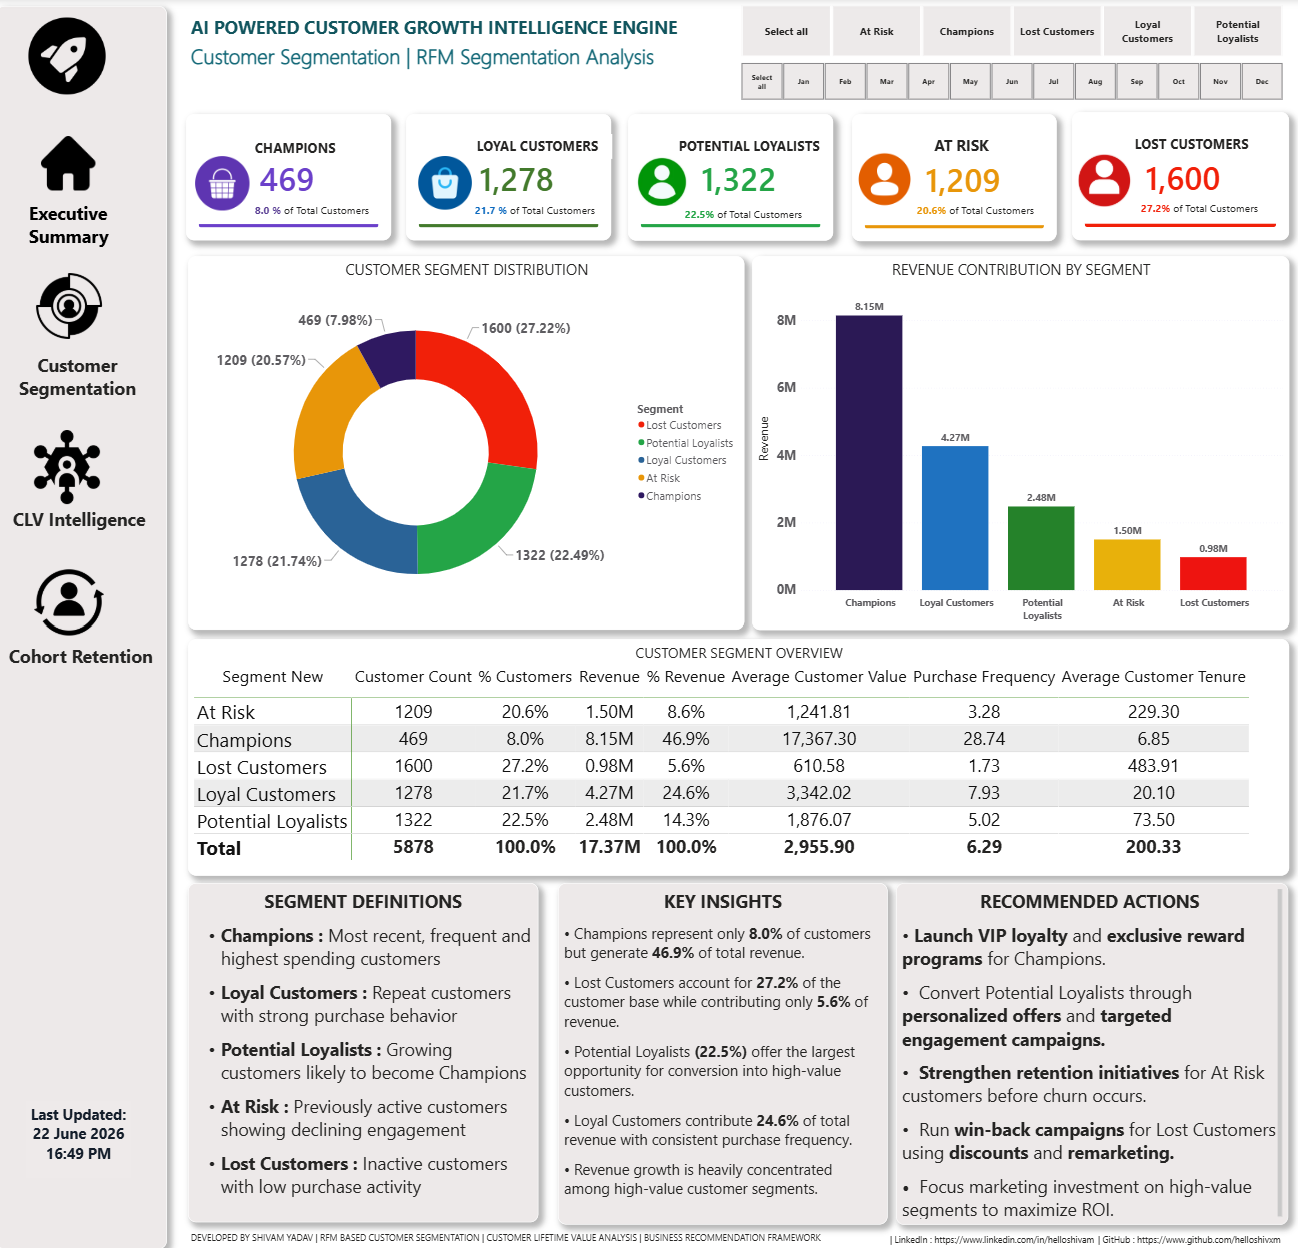

This screenshot's page, from the dashboard's own definition file:
{"tool":"powerbi","page":{"name":"Customer Segmentation","canvas":[2380,2260],"ordinal":1},"visuals":[{"type":"textbox","box":[15.2,15.2,309.1,2245.5],"z":1000},{"type":"image","box":[88,249.9,116.2,98.6],"z":2000},{"type":"image","box":[73.9,496.3,147.8,123.2],"z":3000},{"type":"image","box":[73.9,781.4,140.8,133.8],"z":4000},{"type":"image","box":[81,1027.8,133.8,130.2],"z":5000},{"type":"textbox","box":[70,363.3,186.7,103.3],"z":7000},{"type":"textbox","box":[33.3,635.4,258.3,114.6],"z":8000},{"type":"textbox","box":[40,913.3,253.3,60],"z":9000},{"type":"textbox","box":[33.3,1160,273.3,63.3],"z":10000},{"type":"textbox","box":[68.8,1993.8,189.6,139.6],"z":12000},{"type":"textbox","box":[360,26,898,136],"z":13000},{"type":"image","box":[356,484,186,148],"z":14000},{"type":"cardVisual","fields":{"Data":["cohort_analysis.Champions Count"]},"box":[356.8,210.5,371.1,228.4],"z":15000},{"type":"cardVisual","fields":{"Data":["cohort_analysis.Loyal Customers Count"]},"box":[756.4,210.5,371.1,228.4],"z":16000},{"type":"cardVisual","fields":{"Data":["cohort_analysis.Potential Loyalists Count"]},"box":[1156.1,210.6,371.2,228.8],"z":17000},{"type":"cardVisual","fields":{"Data":["cohort_analysis.At Risk Count"]},"box":[1562.5,210,370,230],"z":18000},{"type":"cardVisual","fields":{"Data":["cohort_analysis.Lost Customers Count"]},"box":[1958.8,206.9,392.5,231.9],"z":19000},{"type":"image","box":[368,284,109.3,98.7],"z":20000},{"type":"image","box":[772.3,284.6,104.6,96.9],"z":21000},{"type":"image","box":[1167.2,285.1,97,92.5],"z":22000},{"type":"image","box":[1570.8,280,103.1,98.5],"z":23000},{"type":"image","box":[1967.7,276.9,101.5,103.1],"z":24000},{"type":"textbox","box":[477.3,250,212.1,43.9],"z":25000},{"type":"textbox","box":[877.5,247.5,250,45],"z":26000},{"type":"textbox","box":[1242.5,245,275,45],"z":27000},{"type":"textbox","box":[1674.3,241.4,171.4,48.6],"z":28000},{"type":"textbox","box":[2069.7,243.9,268.2,48.5],"z":29000},{"type":"textbox","box":[476.9,365.4,226.9,38.5],"z":30000},{"type":"textbox","box":[876,366.7,234.7,36],"z":31000},{"type":"textbox","box":[1253.4,371.2,226,49.3],"z":32000},{"type":"textbox","box":[1674,365.8,223.3,42.5],"z":33000},{"type":"textbox","box":[2080.8,363,223.3,45.2],"z":34000},{"type":"donutChart","title":"CUSTOMER SEGMENT DISTRIBUTION","fields":{"Category":["customer_segments.Segment New"],"Y":["cohort_analysis.Customer Count"]},"box":[360.4,467.4,1006.2,674.4],"z":35000},{"type":"clusteredColumnChart","title":"REVENUE CONTRIBUTION BY SEGMENT","fields":{"Category":["customer_segments.Segment New"],"Y":["cohort_analysis.Revenue"]},"box":[1380,466.7,971.7,675],"z":36000},{"type":"pivotTable","title":"CUSTOMER SEGMENT OVERVIEW","fields":{"Rows":["customer_segments.Segment New"],"Values":["cohort_analysis.Customer Count","cohort_analysis.% Customers","cohort_analysis.Revenue","cohort_analysis.% Revenue","cohort_analysis.Average Customer Value","cohort_analysis.Purchase Frequency","cohort_analysis.Average Customer Tenure"]},"box":[360.4,1156,1990.9,428.2],"z":37000},{"type":"textbox","box":[360,1600,633.3,613.3],"z":38000},{"type":"textbox","box":[1031.2,1598.5,595.9,617.3],"z":39000},{"type":"textbox","box":[1641.6,1597.4,709.1,618.2],"z":40000},{"type":"textbox","box":[360.2,2224.7,1163.4,35.5],"z":41000},{"type":"actionButton","title":"| LinkedIn : https://www.linkedin.com/in/helloshivam","box":[1630.8,2232.5,371.4,25.5],"z":42000},{"type":"actionButton","title":"| GitHub : https://www.github.com/helloshivxm","box":[2007.3,2232.5,340.8,25.5],"z":43000},{"type":"image","box":[50.6,25.3,184.4,159.1],"z":44000},{"type":"slicer","fields":{"Values":["customer_segments.Segment New"]},"box":[1329.3,0,1039.7,119],"z":45000},{"type":"slicer","fields":{"Values":["customer_clv_ml_v2.Month Short"]},"box":[1329.3,103.4,1039.7,91.4],"z":46000}]}

Visuals, with their boxes in screenshot pixels (x1, y1, x2, y2), scaled from the page's 2380x2260 canvas onto the 1298x1248 screenshot:
textbox: 8, 8, 177, 1247
image: 48, 138, 111, 192
image: 40, 274, 121, 342
image: 40, 431, 117, 505
image: 44, 568, 117, 639
textbox: 38, 201, 140, 258
textbox: 18, 351, 159, 414
textbox: 22, 504, 160, 537
textbox: 18, 641, 167, 676
textbox: 38, 1101, 141, 1178
textbox: 196, 14, 686, 89
image: 194, 267, 296, 349
cardVisual - cohort_analysis.Champions Count: 195, 116, 397, 242
cardVisual - cohort_analysis.Loyal Customers Count: 413, 116, 615, 242
cardVisual - cohort_analysis.Potential Loyalists Count: 631, 116, 833, 243
cardVisual - cohort_analysis.At Risk Count: 852, 116, 1054, 243
cardVisual - cohort_analysis.Lost Customers Count: 1068, 114, 1282, 242
image: 201, 157, 260, 211
image: 421, 157, 478, 211
image: 637, 157, 689, 209
image: 857, 155, 913, 209
image: 1073, 153, 1128, 210
textbox: 260, 138, 376, 162
textbox: 479, 137, 615, 162
textbox: 678, 135, 828, 160
textbox: 913, 133, 1007, 160
textbox: 1129, 135, 1275, 161
textbox: 260, 202, 384, 223
textbox: 478, 202, 606, 222
textbox: 684, 205, 807, 232
textbox: 913, 202, 1035, 225
textbox: 1135, 200, 1257, 225
"CUSTOMER SEGMENT DISTRIBUTION" donutChart: 197, 258, 745, 631
"REVENUE CONTRIBUTION BY SEGMENT" clusteredColumnChart: 753, 258, 1283, 630
"CUSTOMER SEGMENT OVERVIEW" pivotTable: 197, 638, 1282, 875
textbox: 196, 884, 542, 1222
textbox: 562, 883, 887, 1224
textbox: 895, 882, 1282, 1223
textbox: 196, 1229, 831, 1247
"| LinkedIn : https://www.linkedin.com/in/helloshivam" actionButton: 889, 1233, 1092, 1247
"| GitHub : https://www.github.com/helloshivxm" actionButton: 1095, 1233, 1281, 1247
image: 28, 14, 128, 102
slicer - customer_segments.Segment New: 725, 0, 1292, 66
slicer - customer_clv_ml_v2.Month Short: 725, 57, 1292, 108
